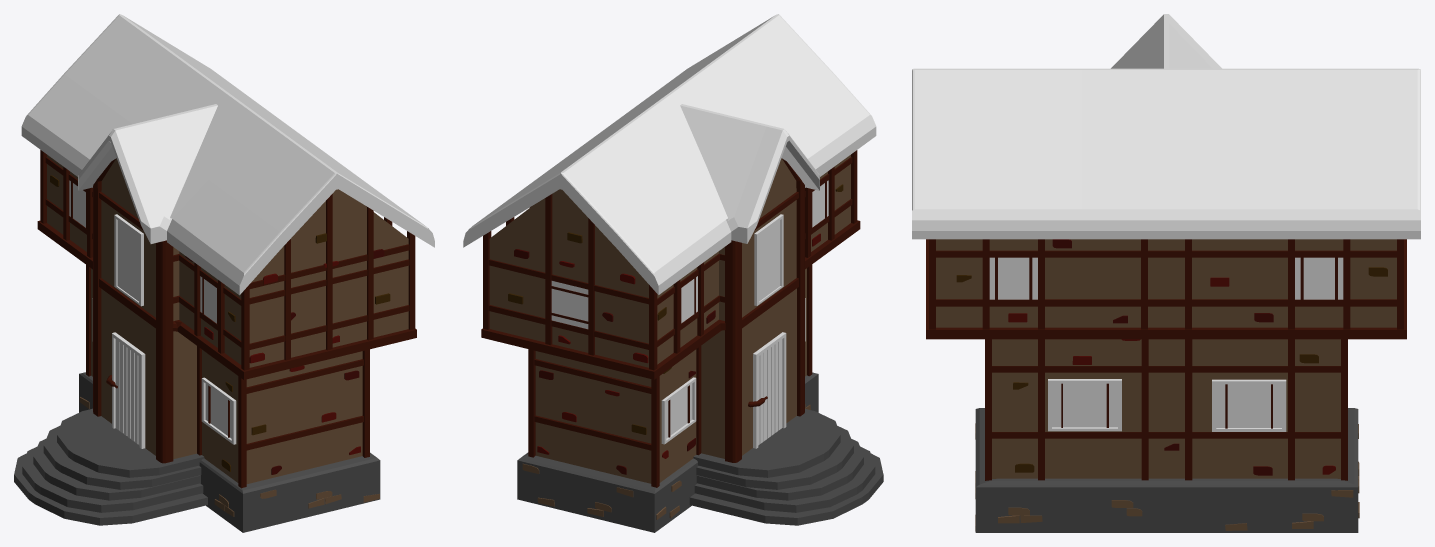
The model's file is Village_Build_4.fbx.
The picture shows the model from 3 angles, left to right: view 1: azimuth 30°, elevation 25°; view 2: azimuth 150°, elevation 25°; view 3: azimuth 270°, elevation 25°; orthographic projection. The views are drawn at different scales.
Parts seen in each view (by area): view 1: Cube.128; view 2: Cube.128; view 3: Cube.128.
Part boxes in pixels (bbox=[...]): Cube.128: bbox=[14, 14, 434, 532]; Cube.128: bbox=[463, 14, 883, 532]; Cube.128: bbox=[912, 14, 1420, 532].
Size of the model in its own units: 709 by 837 by 911.
